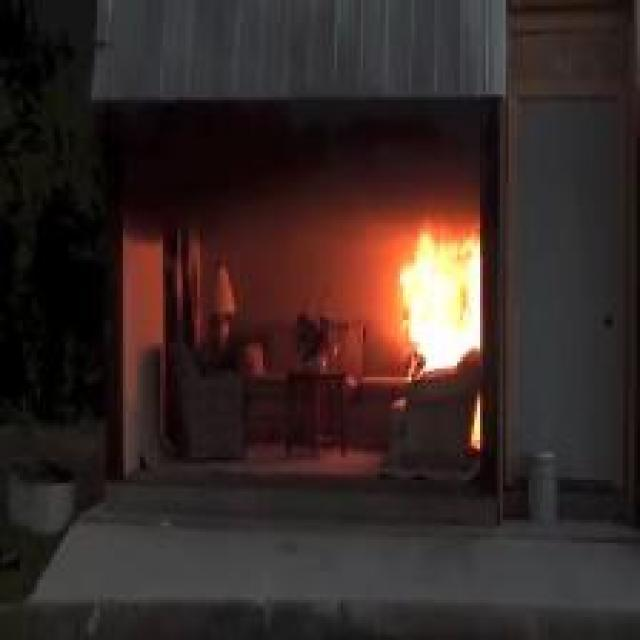Fire: (400, 235, 480, 372)
